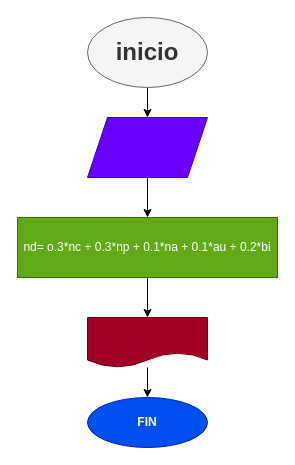
The diagram is 295 pixels wide and 465 high, and some of its shapes have lost their labels. Each missing label, with the centre of its shape:
nc, cp, na, au, bi: point 147,147
nd: point 147,342
